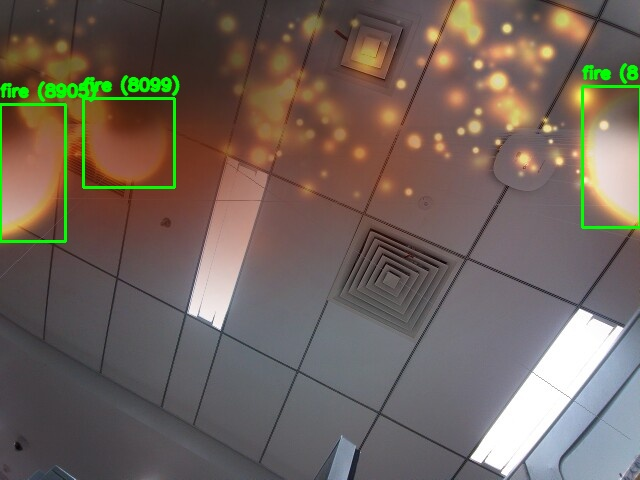fire: (0, 104, 65, 241), (582, 86, 640, 227), (83, 98, 174, 187)
